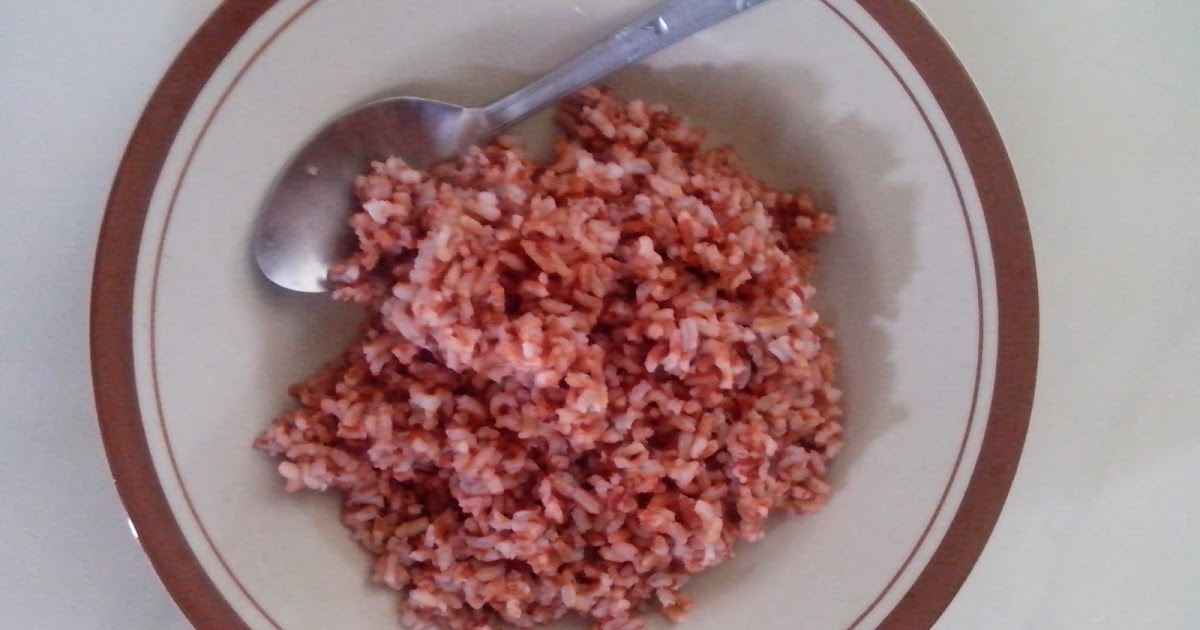Nasi Merah: (201, 117, 889, 630)
